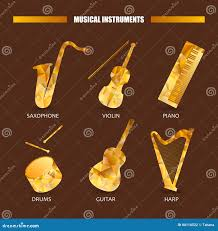Piano: (140, 37, 211, 124)
Saxophone: (24, 33, 100, 118)
Violin: (76, 35, 153, 135)
